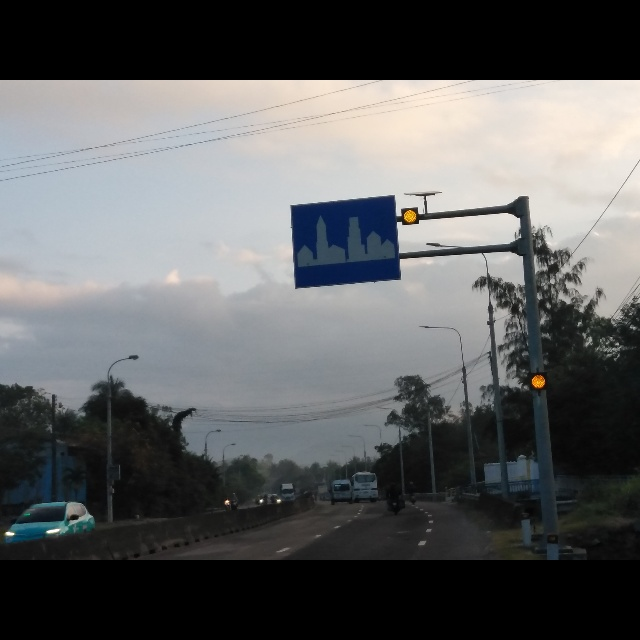Khu đông dân cư: (286, 193, 402, 293)
